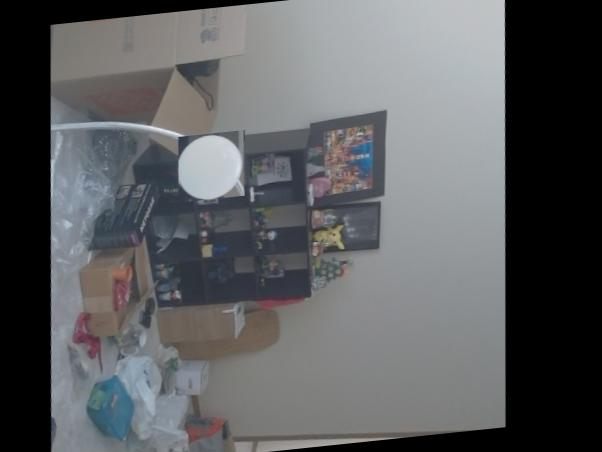Fan: (176, 129, 254, 202)
